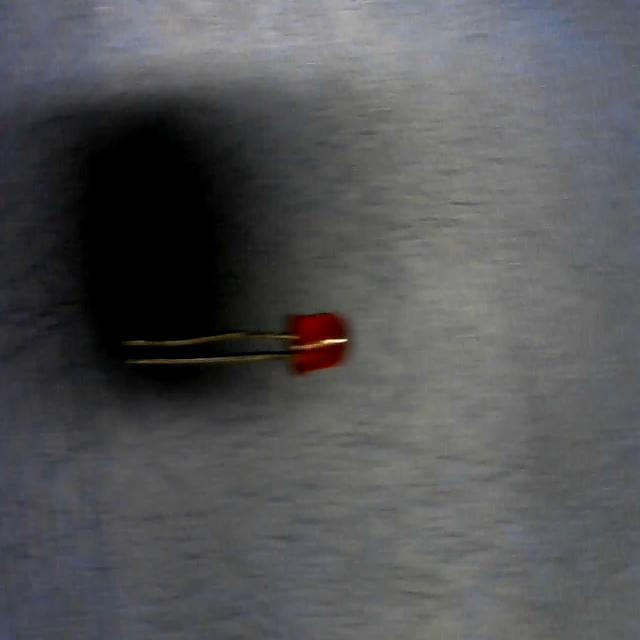LED: (124, 310, 353, 380)
